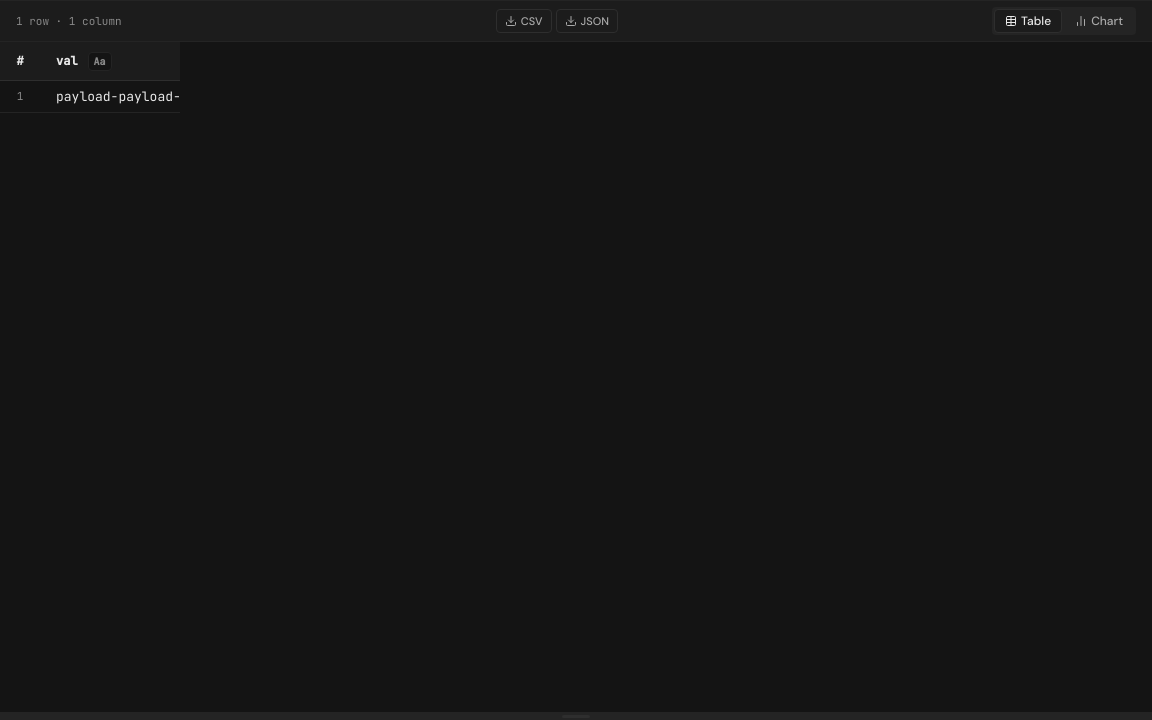
it: TableOutput virtualization › opens the detail panel with the full value on click
Click the cell named "payload-payload-payload-payload-payload-payload-payload-payl" at (110, 97), box [40,81,180,113]
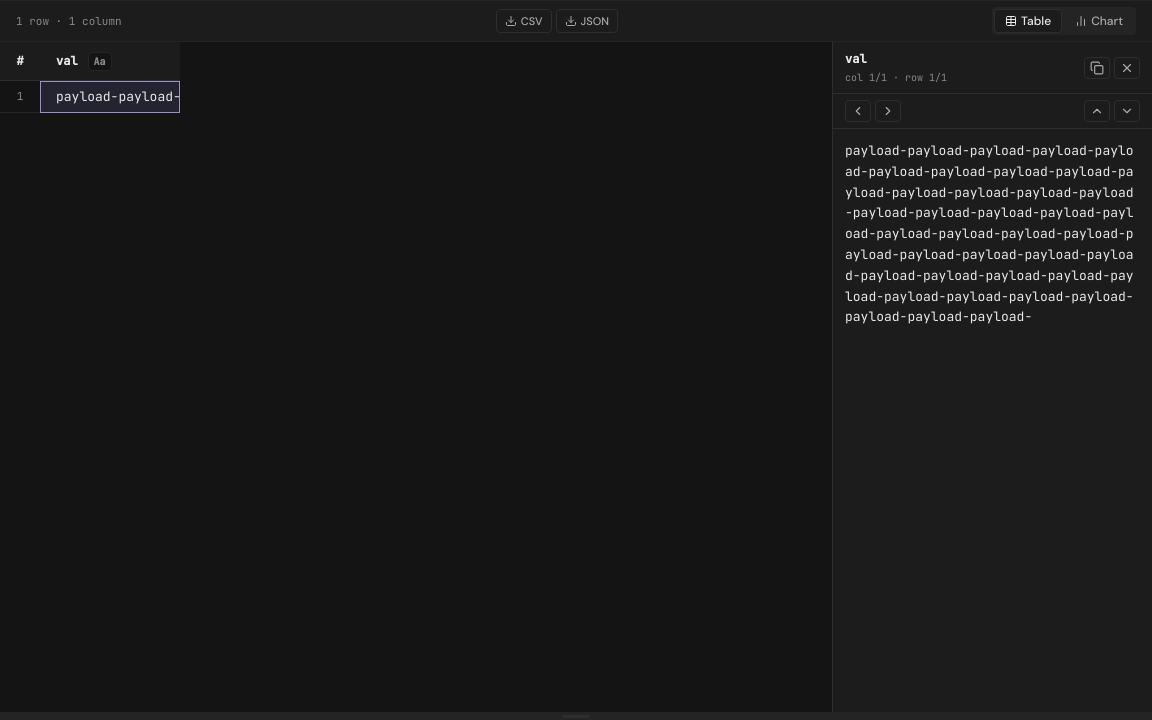
Expected: the button named "Copy value" is shown, [1084,56,1110,78]
